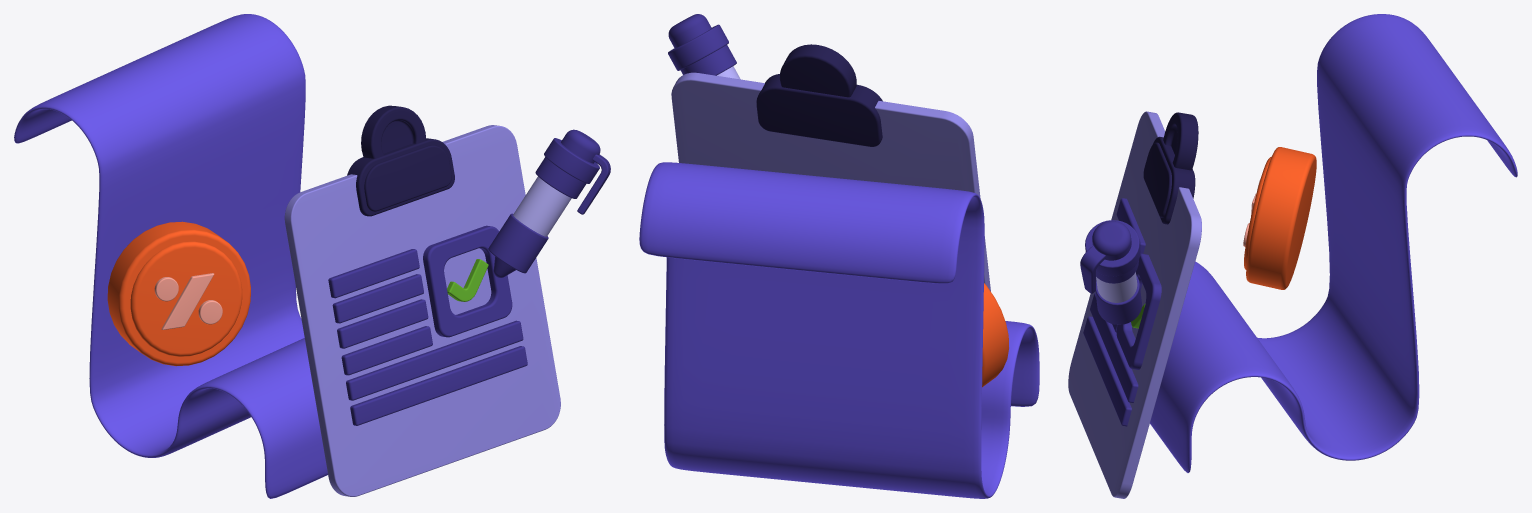
File: Money Management.glb
3 views of the same model, side by side, from view 1: azimuth 30°, elevation 25°; view 2: azimuth 150°, elevation 25°; view 3: azimuth 270°, elevation 25° (orthographic). The views are drawn at different scales.
Parts seen in each view (by area): view 1: Cylinder.050, Plane.016, Cube.037, Cylinder.058, Cube.038, Cube.036, Cylinder.051, Cylinder.059, Cylinder.054, Cylinder.053, Cube.035, Cylinder.057 (+3 smaller); view 2: Cylinder.050, Plane.016, Cube.035, Cylinder.051, Cylinder.058, Cylinder.057, Cylinder.052, Cylinder.056; view 3: Cylinder.050, Plane.016, Cylinder.058, Cube.037, Cube.038, Cylinder.051, Cube.036, Cylinder.056, Cylinder.054, Cube.035, Cylinder.057, Cylinder.053 (+2 smaller).
Boxes of the visible parts, x1,y1,x2,y2 form: Cylinder.050: (14, 14, 327, 498); Plane.016: (284, 125, 560, 496); Cube.037: (328, 249, 527, 425); Cylinder.058: (107, 221, 250, 366); Cube.038: (423, 225, 512, 337); Cube.036: (364, 145, 451, 211); Cylinder.051: (361, 105, 426, 158); Cylinder.059: (154, 273, 222, 329); Cylinder.054: (488, 213, 548, 273); Cylinder.053: (513, 176, 571, 236); Cube.035: (347, 138, 454, 216); Cylinder.057: (544, 138, 599, 183); Cylinder.050: (639, 162, 1039, 498); Plane.016: (671, 72, 990, 291); Cube.035: (756, 74, 882, 146); Cylinder.051: (779, 44, 856, 97); Cylinder.058: (982, 283, 1008, 387); Cylinder.057: (668, 24, 728, 70); Cylinder.052: (675, 26, 736, 75); Cylinder.056: (668, 14, 711, 48); Cylinder.050: (1150, 14, 1517, 472); Plane.016: (1068, 111, 1201, 498); Cylinder.058: (1244, 147, 1316, 289); Cube.037: (1083, 198, 1145, 426); Cube.038: (1116, 253, 1161, 369); Cylinder.051: (1163, 112, 1198, 170); Cube.036: (1143, 142, 1171, 217); Cylinder.056: (1092, 220, 1131, 260); Cylinder.054: (1095, 275, 1141, 324); Cube.035: (1153, 136, 1195, 224); Cylinder.057: (1085, 220, 1140, 276); Cylinder.053: (1096, 272, 1137, 302).
Size of the model in its own units: 4.25 by 3.15 by 3.91.
